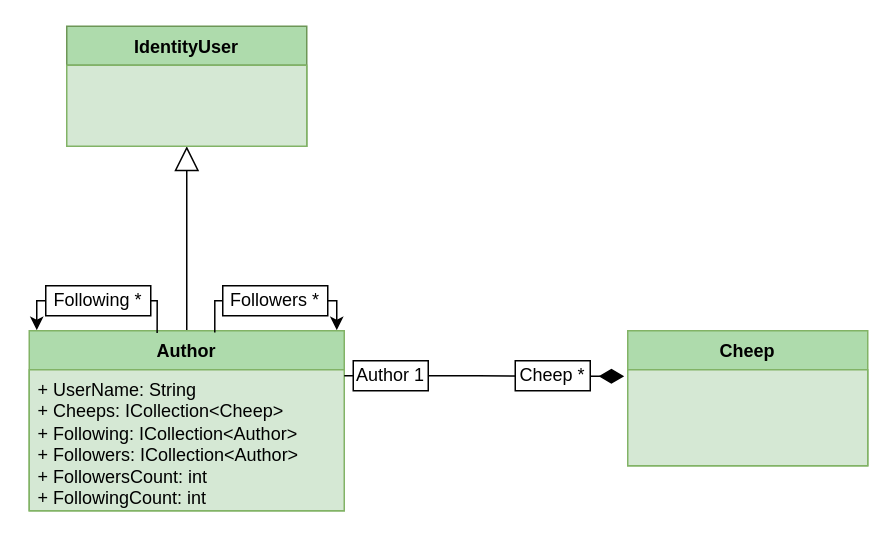
Image size: 894x542. Some labels were removed from this diagram. The shapes that lost their labels are listed below. From the top down, each one's centre as x and y in pixels, then its label:
At (186,105): "+ Id: String + UserName: String + Email: String".
At (747,417): "+ CheepId: Int + Text: String + TimeStamp: DateTime + Author: Author".
